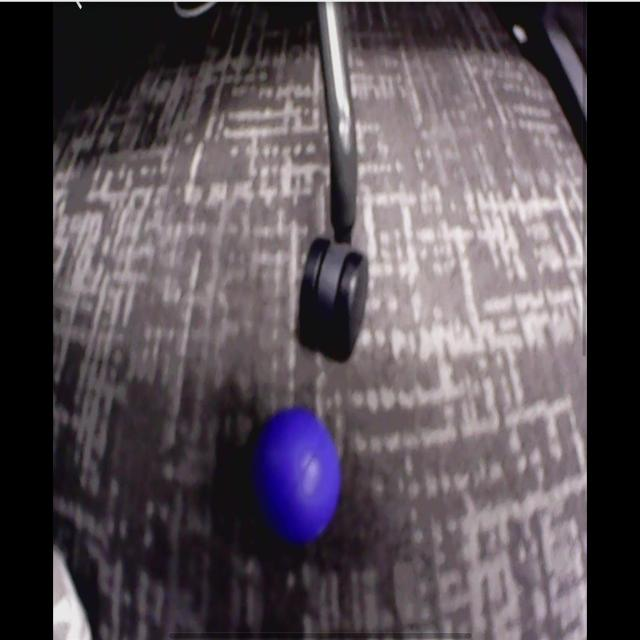ball: (262, 406, 341, 542)
